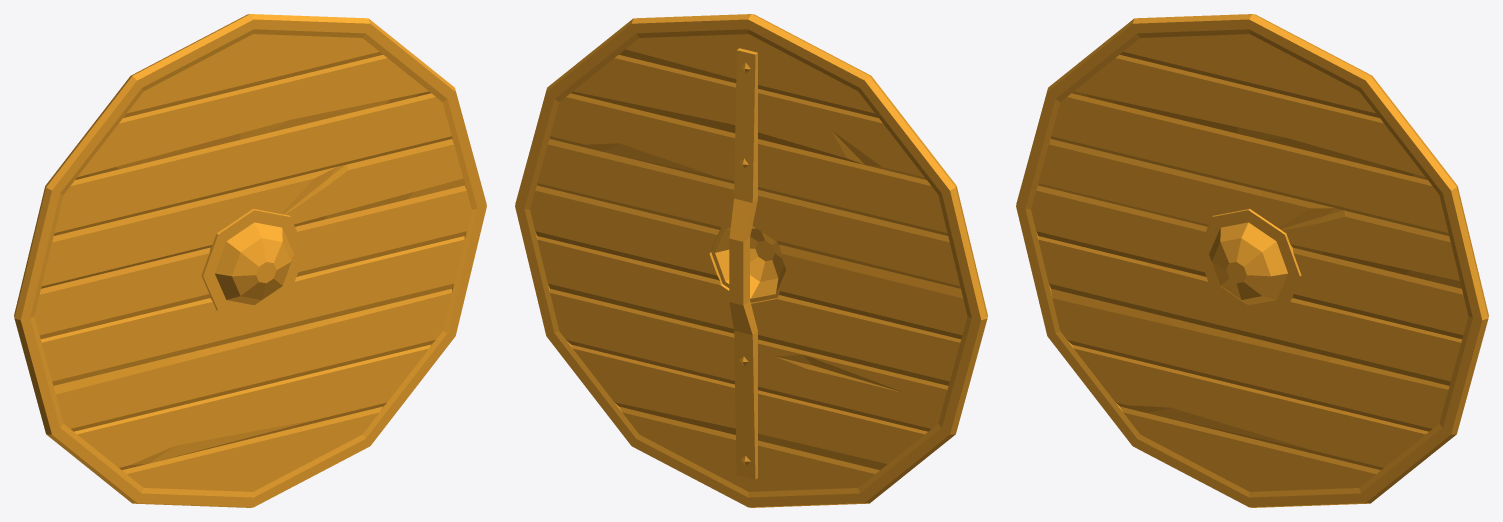
File: SM_Shield_Round_D.fbx
3 renders of one model, left to right at view 1: azimuth 30°, elevation 25°; view 2: azimuth 150°, elevation 25°; view 3: azimuth 330°, elevation 25°, orthographic.
Visible parts, largest first — view 1: shield-round-d; view 2: shield-round-d; view 3: shield-round-d.
Part boxes in pixels (x1,y1,x2,y2): shield-round-d: (14,14,486,507); shield-round-d: (515,14,987,507); shield-round-d: (1016,14,1488,507).
Bounding box in the file's own units: 1.01 × 1.01 × 0.1152.
